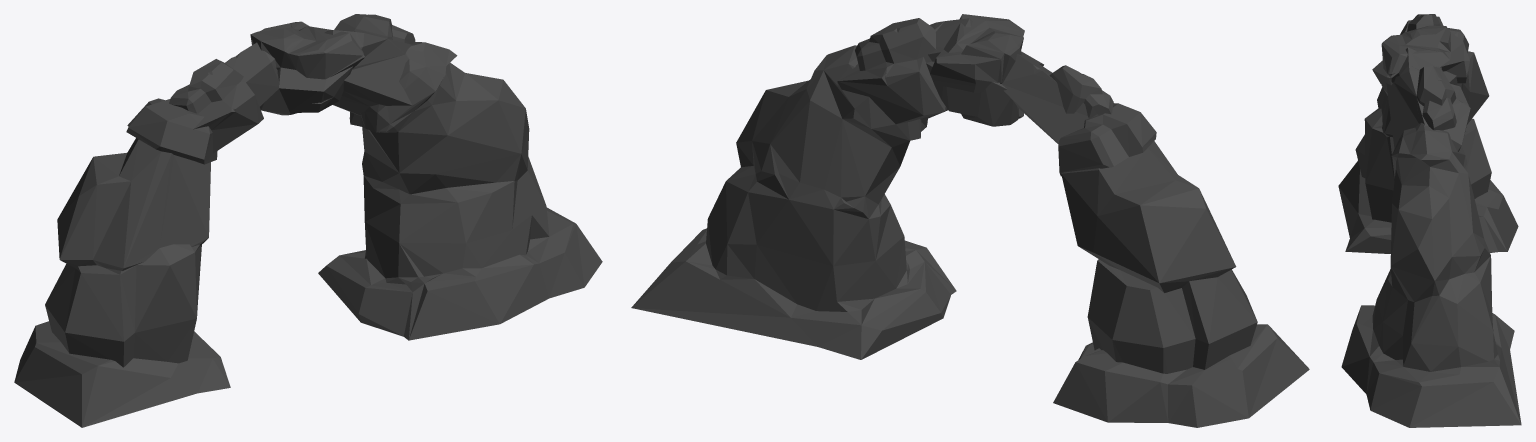
Rendered from rock__rockform_arch_dark.glb.
3 renders of one model, left to right at view 1: azimuth 30°, elevation 25°; view 2: azimuth 150°, elevation 25°; view 3: azimuth 270°, elevation 25°, orthographic. The views are drawn at different scales.
Visible parts, largest first — view 1: rockform.arch.dark; view 2: rockform.arch.dark; view 3: rockform.arch.dark.
Part boxes in pixels (<box>): rockform.arch.dark: <box>14,14,602,427</box>; rockform.arch.dark: <box>631,14,1309,427</box>; rockform.arch.dark: <box>1338,14,1521,427</box>.
Bounding box in the file's own units: 36.79 × 18.56 × 11.68.
Materials: 1 (1 with a texture image).
